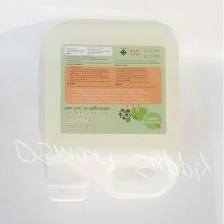cleaning_solution: (35, 18, 183, 204)
